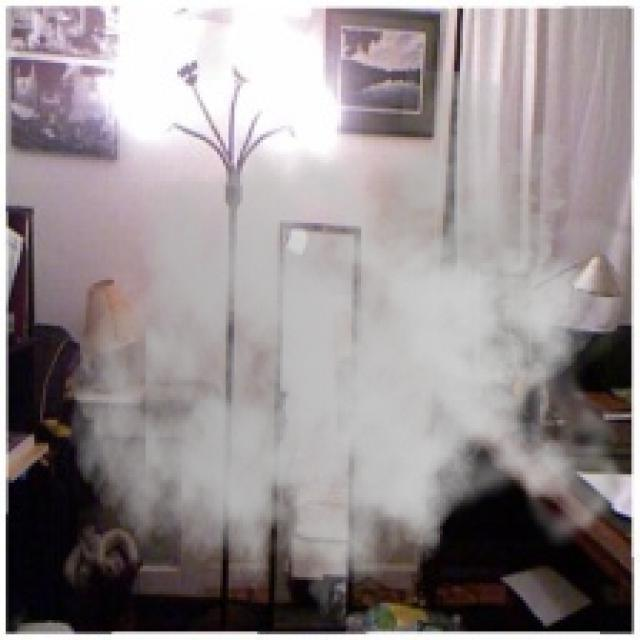Smoke: (65, 72, 638, 638)
